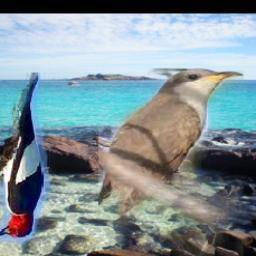Cuckoo: (98, 68, 244, 256)
Woodpecker: (0, 74, 57, 251)
